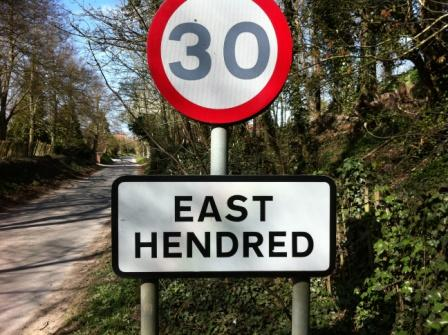Speed_limit_30km: (147, 1, 292, 122)
